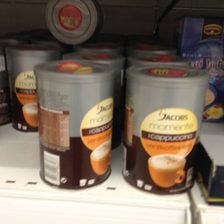coffee: (124, 62, 208, 195), (33, 60, 115, 189), (7, 43, 49, 131)
